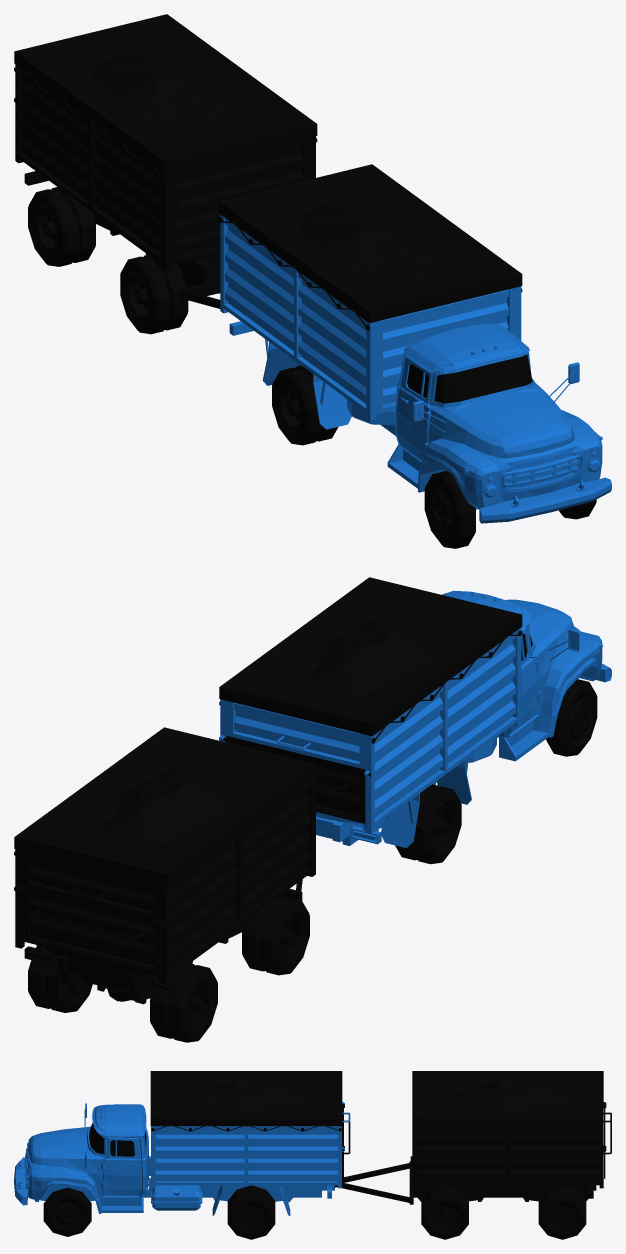
File: SM_grain_truck.fbx
3 views of the same model, one above another, from view 1: azimuth 30°, elevation 25°; view 2: azimuth 150°, elevation 25°; view 3: azimuth 270°, elevation 25° (orthographic). The views are drawn at different scales.
Visible parts, largest first — view 1: cafsdf, Torus, Cloner_5_2, Cloner_5, Landscape_1, Landscape_1_2, Cylinder, Cylinder_3, Cylinder_3_2, Cylinder_2; view 2: cafsdf, Torus, Cloner_5, Cloner_5_2, Cylinder_4, Landscape_1, Landscape_1_2, Cylinder_3, Cylinder, Cylinder_4_2, Cylinder_3_2, Cylinder_2; view 3: cafsdf, Torus, Cloner_5_2, Cloner_5, Landscape_1, Landscape_1_2, Cylinder_3, Cylinder_3_2, Cylinder, Cylinder_2_2, Cylinder_4_2.
Part boxes in pixels (x1,y1,x2,y2): cafsdf: (219,214,611,523); Torus: (14,64,315,308); Cloner_5_2: (219,164,522,330); Cloner_5: (14,14,317,180); Landscape_1: (90,56,242,133); Landscape_1_2: (295,206,447,283); Cylinder: (120,254,188,334); Cylinder_3: (28,187,95,266); Cylinder_3_2: (272,365,338,445); Cylinder_2: (424,471,475,548); cafsdf: (219,590,611,847); Torus: (14,778,315,1004); Cloner_5: (14,727,317,894); Cloner_5_2: (219,577,522,743); Cylinder_4: (14,886,165,973); Landscape_1: (99,764,230,846); Landscape_1_2: (304,614,436,695); Cylinder_3: (28,947,217,1042); Cylinder: (242,895,309,975); Cylinder_4_2: (219,736,370,823); Cylinder_3_2: (319,784,461,864); Cylinder_2: (546,679,597,756); cafsdf: (14,1102,350,1215); Torus: (335,1102,611,1204); Cloner_5_2: (150,1071,342,1131); Cloner_5: (412,1071,603,1131); Landscape_1: (439,1079,572,1111); Landscape_1_2: (177,1079,311,1111); Cylinder_3: (538,1185,586,1239); Cylinder_3_2: (227,1185,275,1239); Cylinder: (421,1185,468,1239); Cylinder_2_2: (43,1187,91,1236); Cylinder_4_2: (342,1104,350,1180).
Size of the model in its own units: 274 by 328 by 1337.
